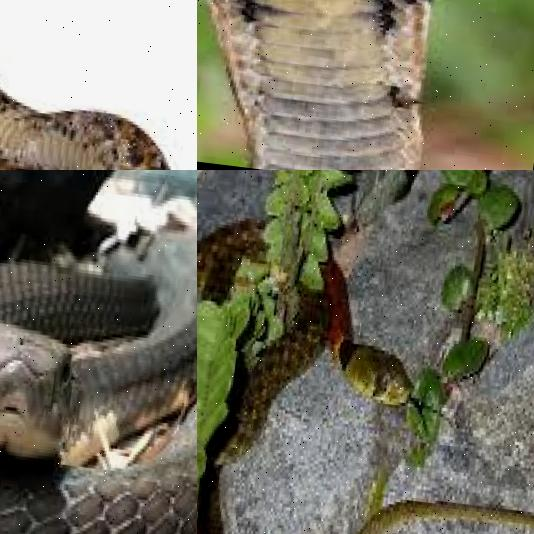snake: (197, 207, 534, 534), (0, 170, 197, 534), (197, 0, 460, 170), (0, 0, 197, 170)
